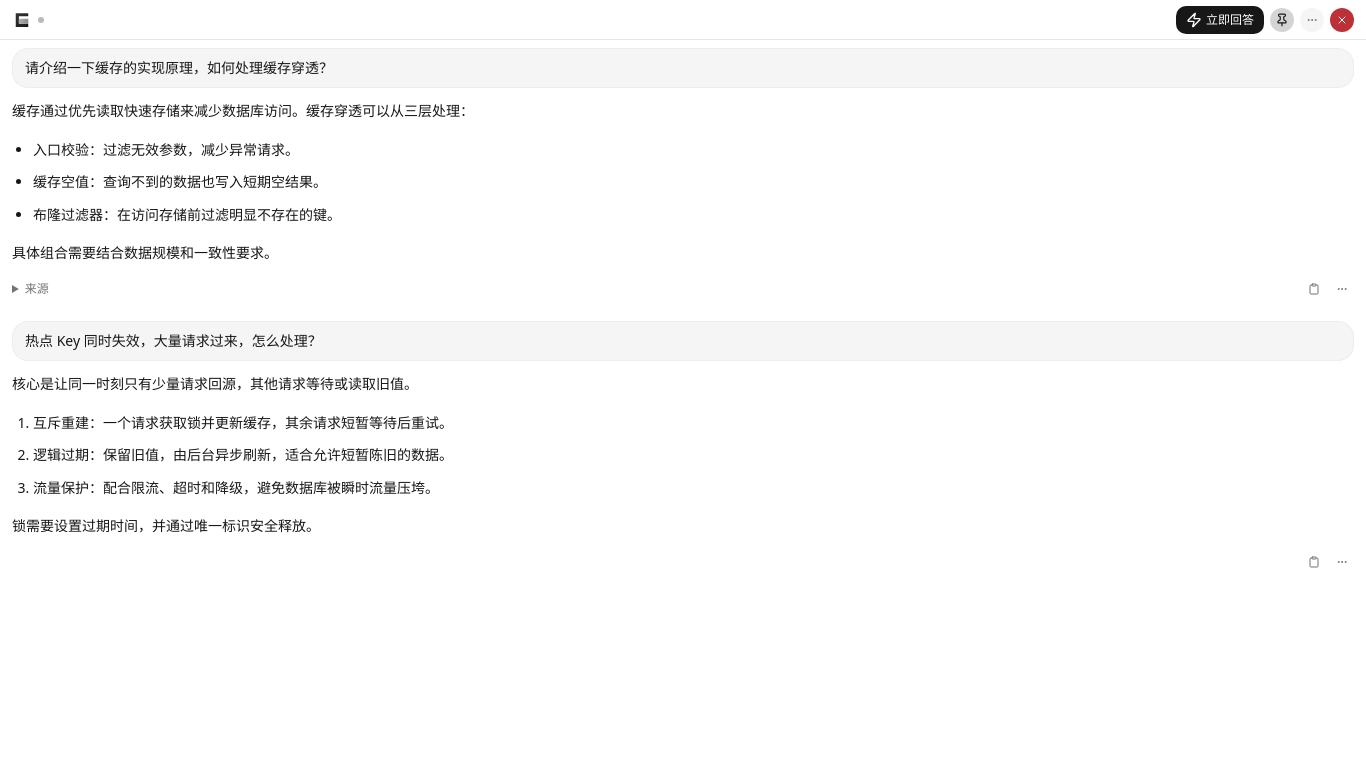
Test: desktop UI integration › keeps the manual question draft when its answer-window dialog is reopened
Check: the button "立即回答" is shown, box top-left (1176, 6), bottom-right (1264, 34)
Click the button named "更多" at (1312, 20), box top-left (1300, 8), bottom-right (1324, 32)
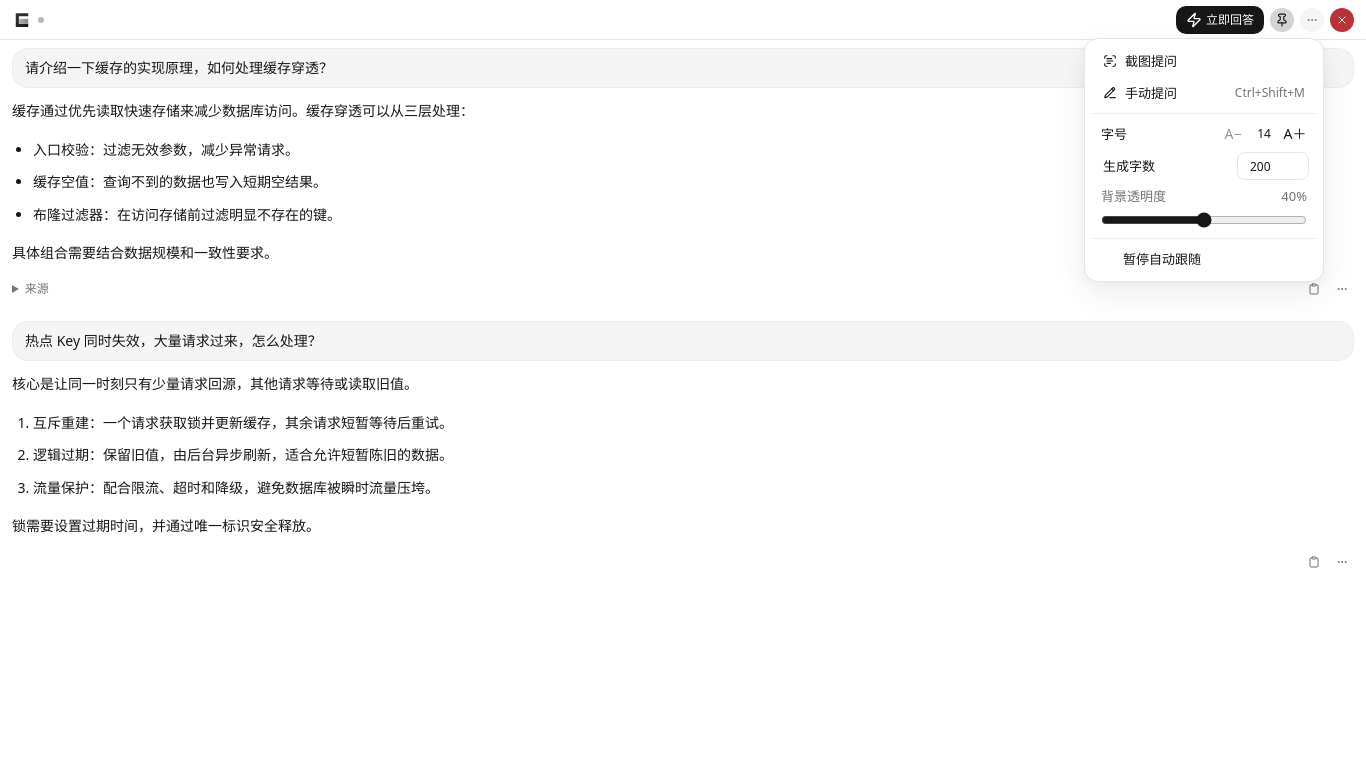
Click the menu item "手动提问 Ctrl+Shift+M" at (1151, 93), box top-left (1103, 84), bottom-right (1305, 102)
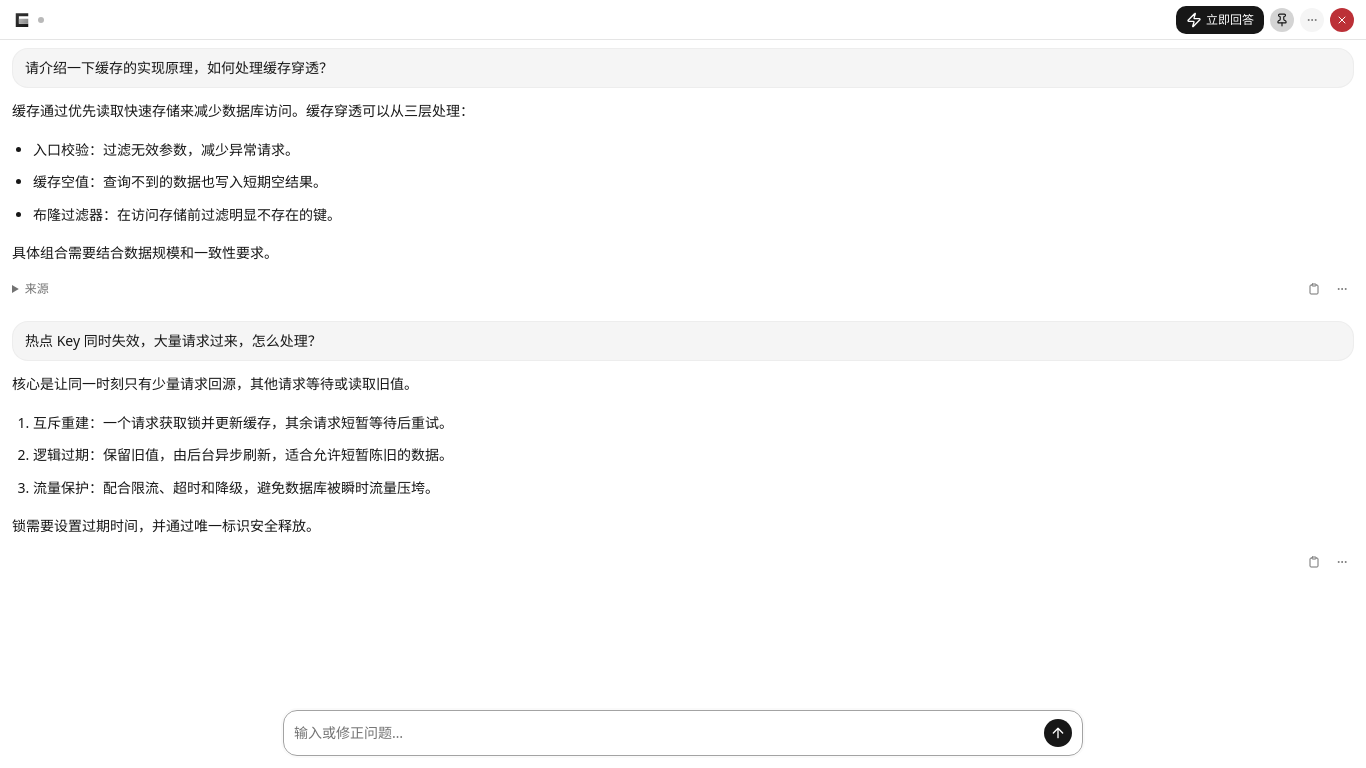
Type "fixture follow-up" into the text box named "手动输入问题" at (665, 733), box top-left (294, 719), bottom-right (1036, 747)
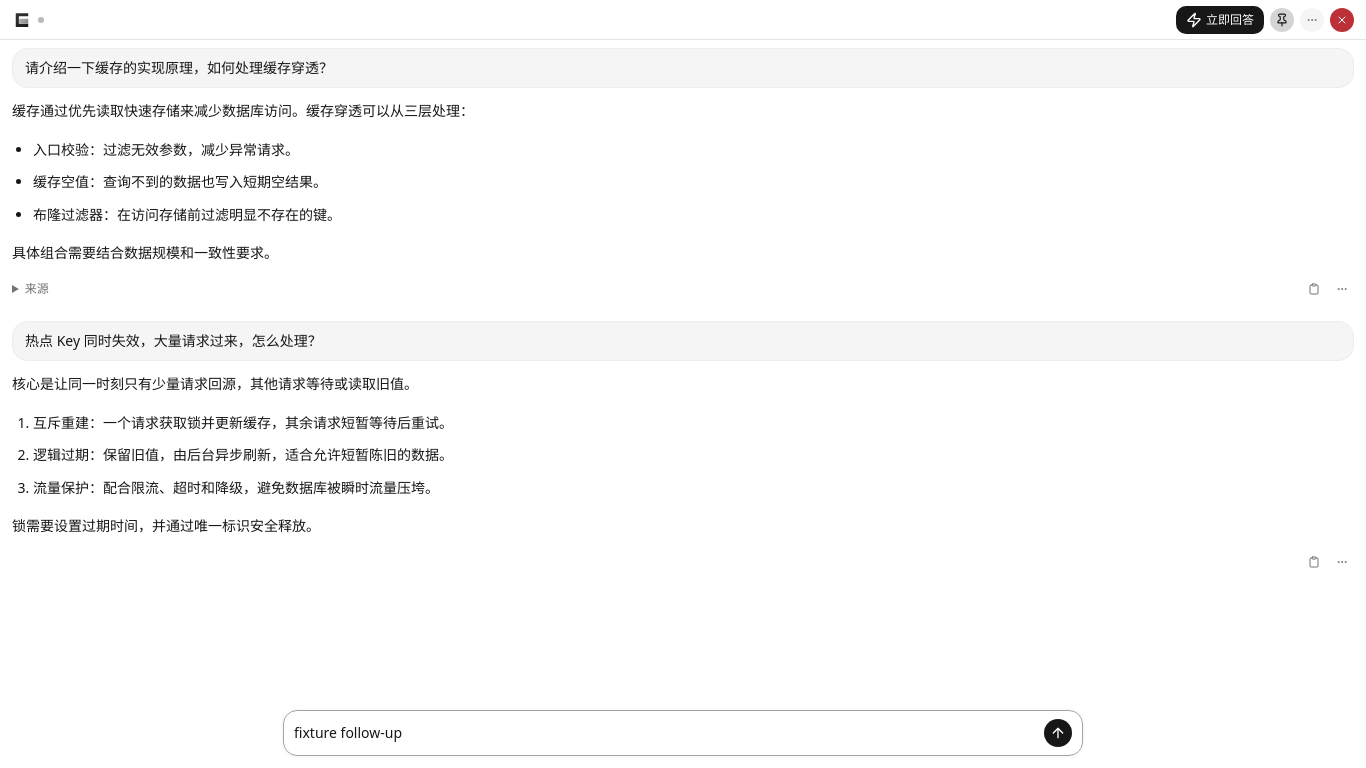
Press Escape
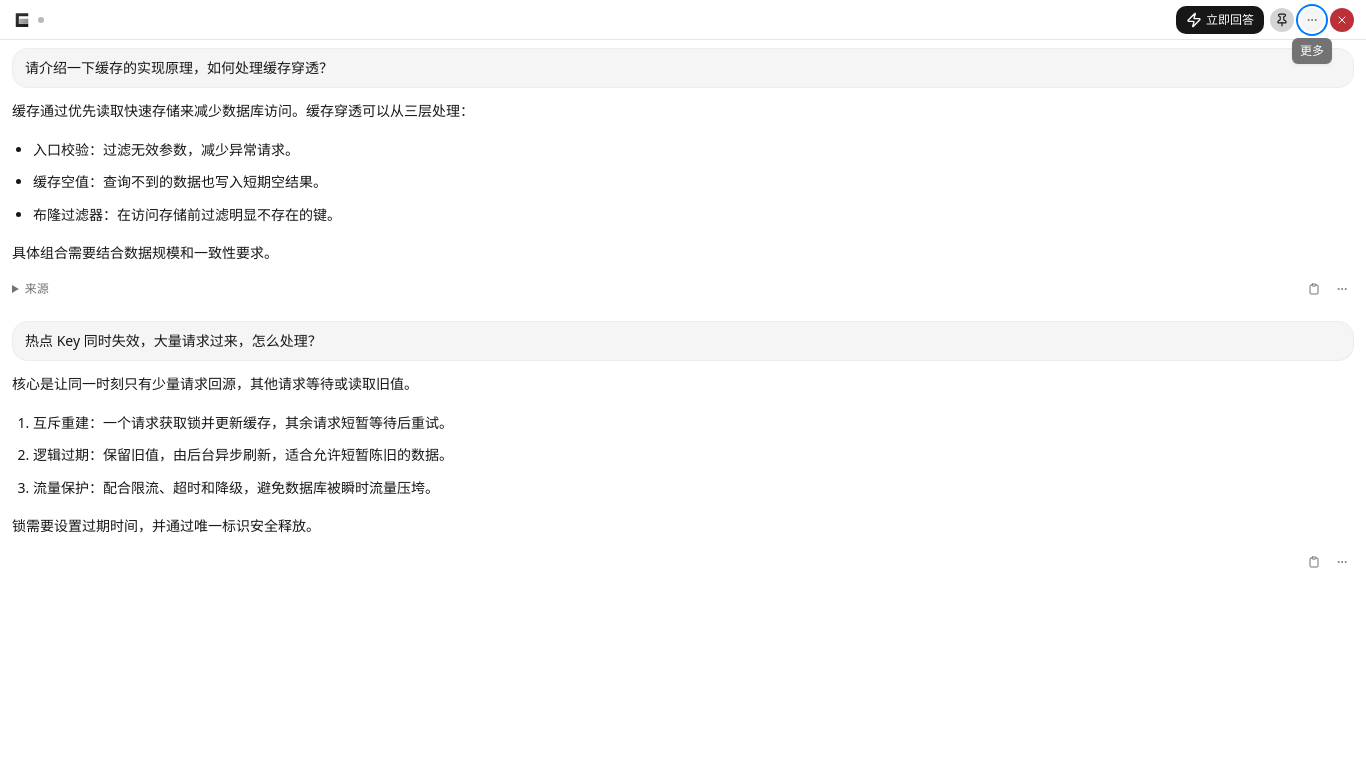
Click the button named "更多" at (1312, 20), box top-left (1300, 8), bottom-right (1324, 32)
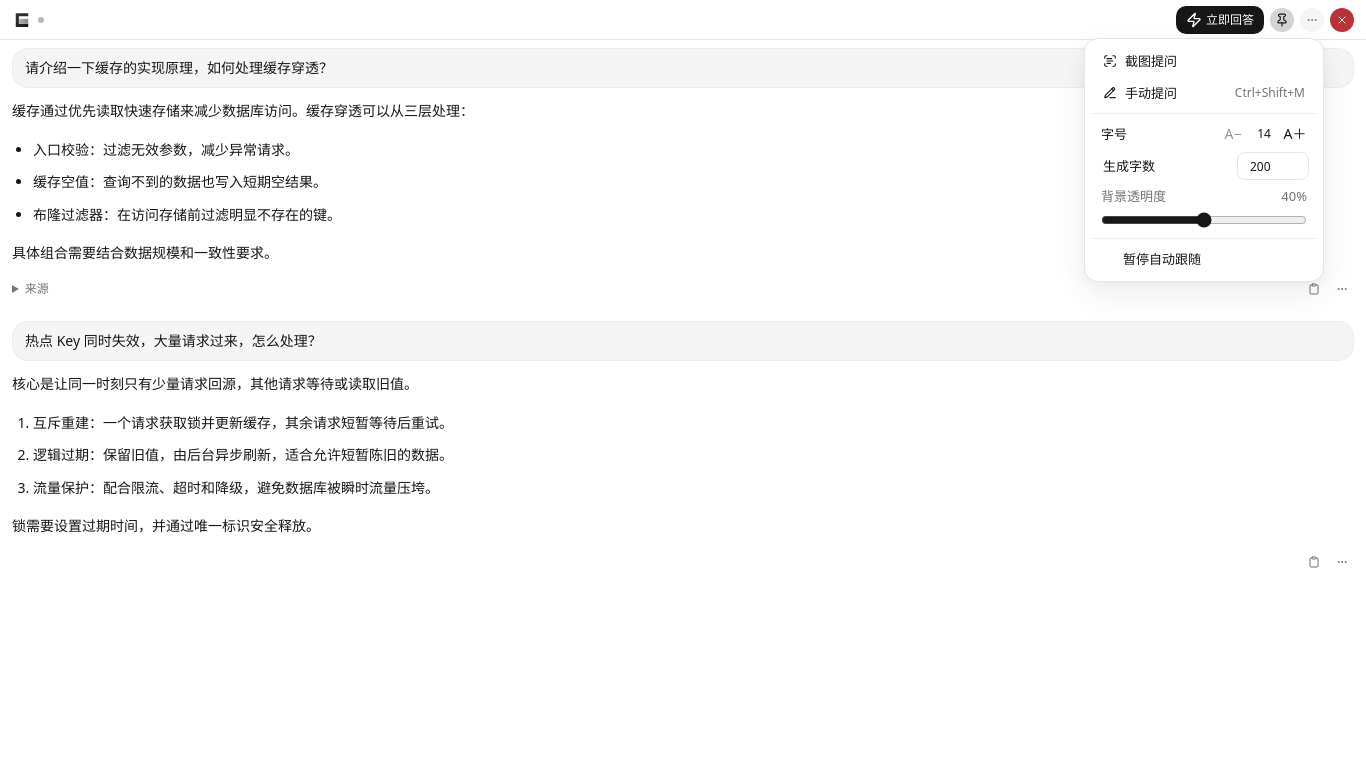
Click the menu item "手动提问 Ctrl+Shift+M" at (1151, 93), box top-left (1103, 84), bottom-right (1305, 102)
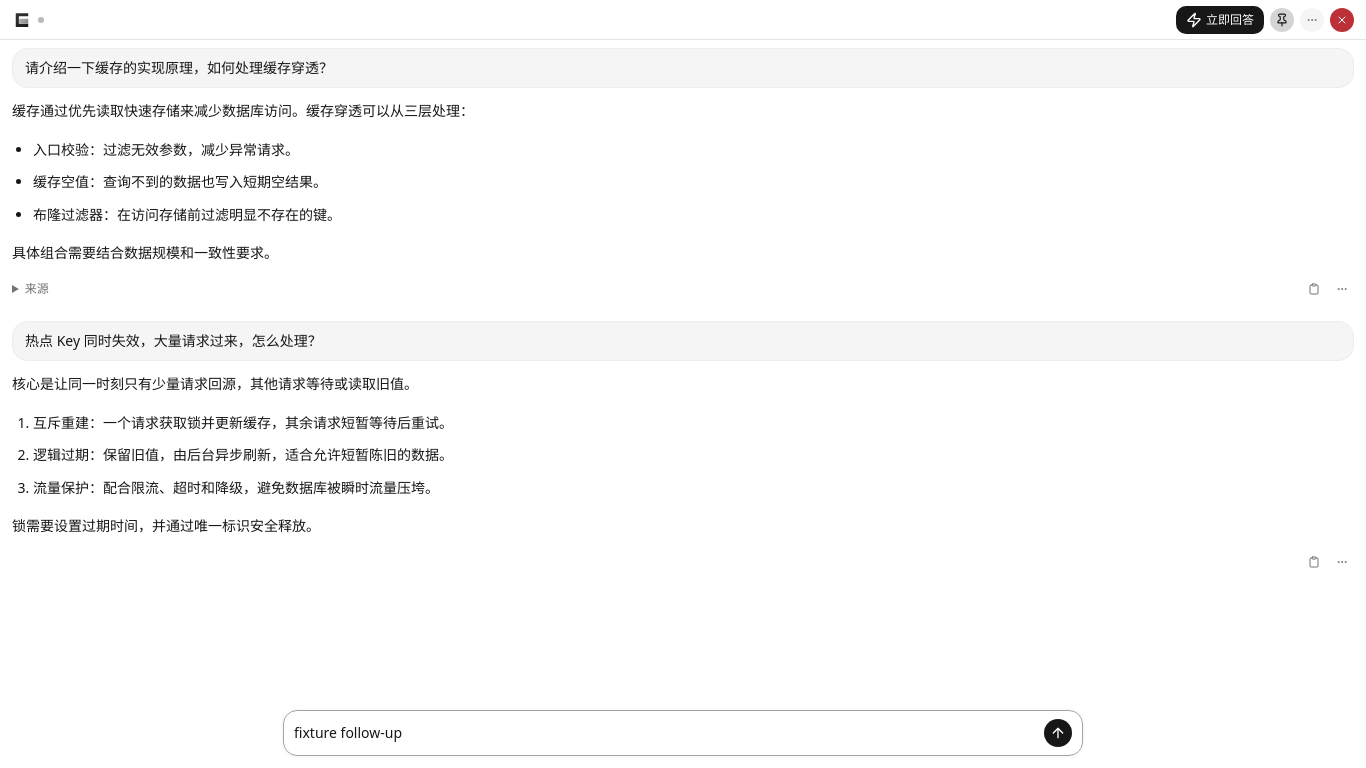
Check: the text box named "手动输入问题" holds "fixture follow-up", box top-left (294, 719), bottom-right (1036, 747)
